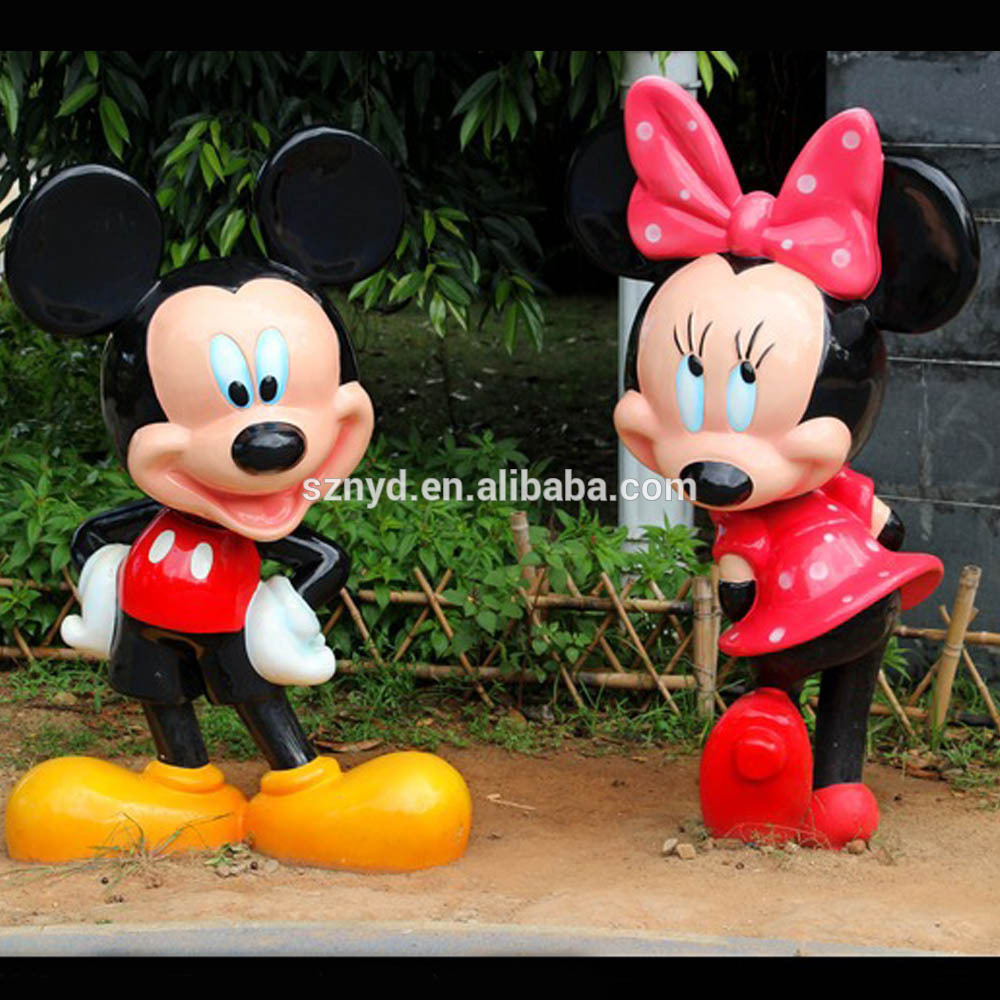Mickey: (4, 126, 408, 544)
